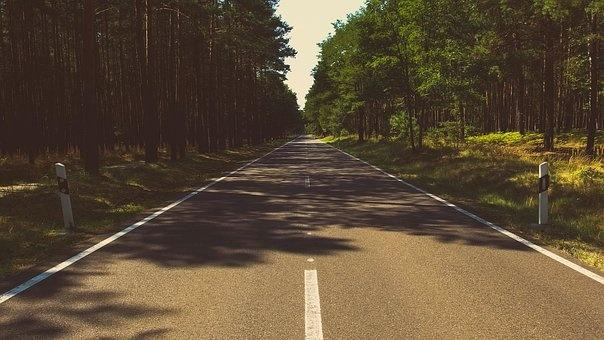road: (0, 137, 603, 338)
